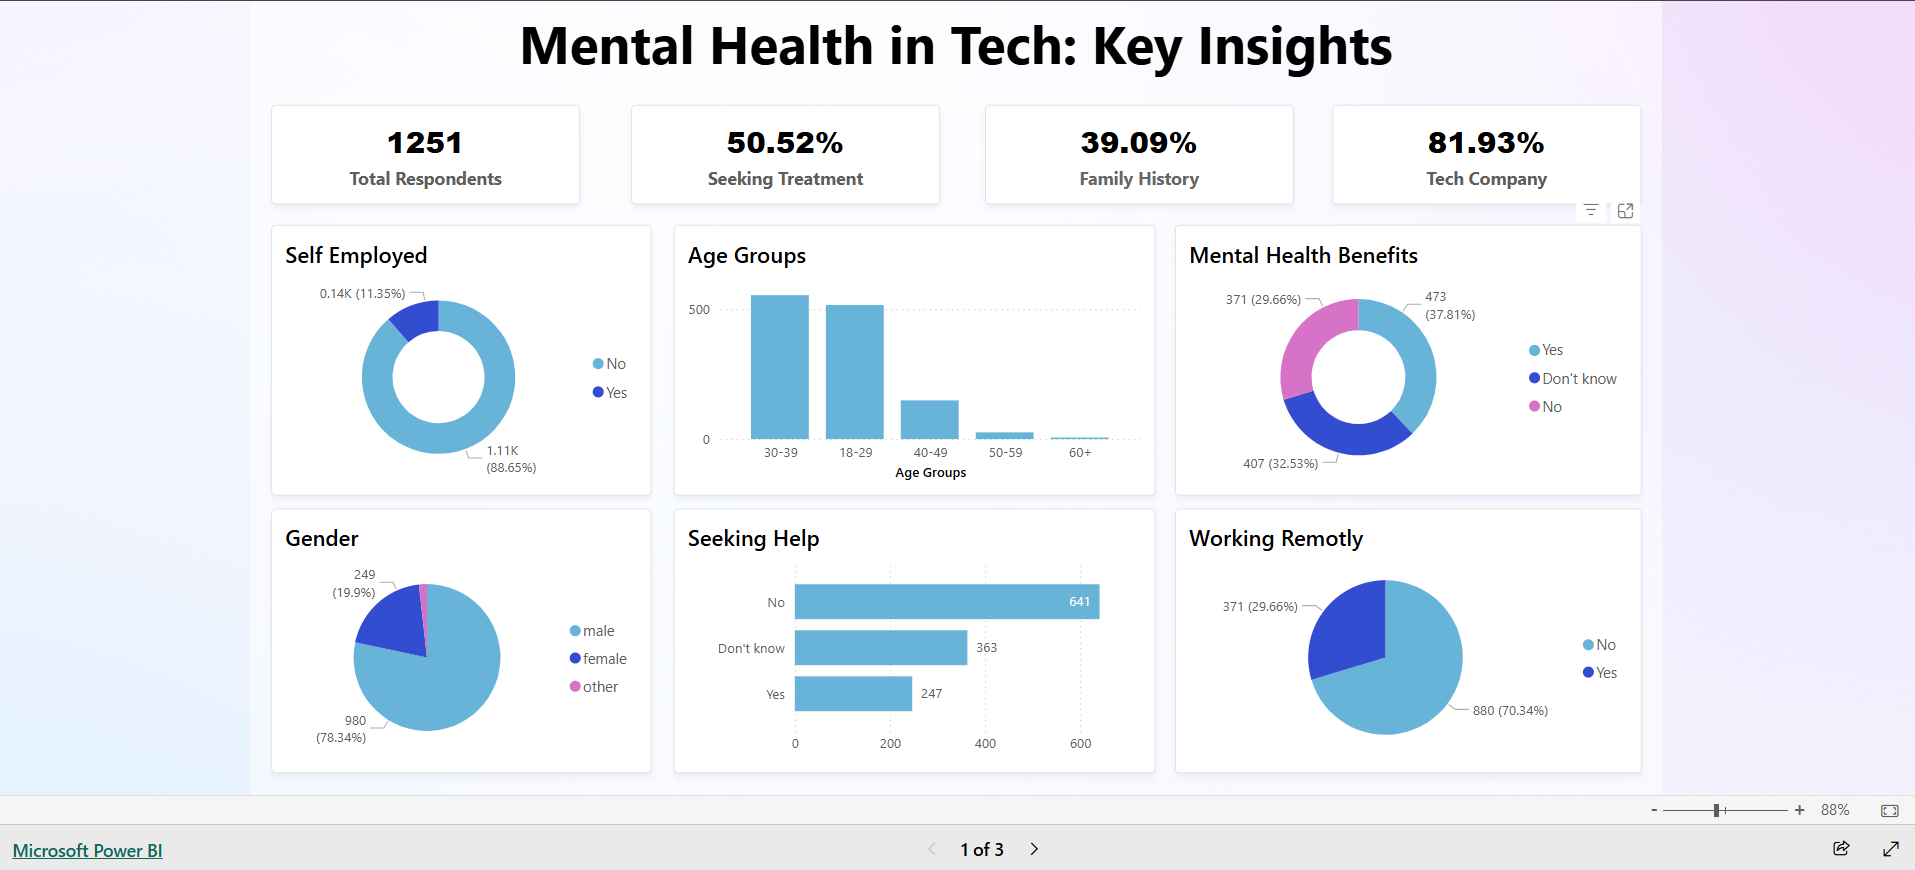

What the dashboard file says about the page in this screenshot:
{"tool":"powerbi","page":{"name":"Overview","canvas":[1280,720],"ordinal":0},"visuals":[{"type":"card","fields":{"Values":["survey.Measure: Total Respondents"]},"box":[19.6,94.2,280,90.5],"z":0},{"type":"card","fields":{"Values":["survey.Measure: % Seeking Treatment"]},"box":[346.1,94.2,280,90.5],"z":1000},{"type":"card","fields":{"Values":["survey.Measure: % Family History"]},"box":[666.4,94.2,280,90.5],"z":2000},{"type":"card","fields":{"Values":["survey.Measure: % Tech Company"]},"box":[981.9,94.2,280,90.5],"z":3000},{"type":"clusteredColumnChart","title":"Age Groups","fields":{"Category":["survey.Age Group"],"Y":["survey.Measure: Total Respondents"]},"box":[384,203,436.6,245.8],"z":4000},{"type":"pieChart","title":"Gender","fields":{"Y":["survey.Measure: Total Respondents"],"Category":["survey.Gender"]},"box":[19.6,459.8,344.8,239.7],"z":5000},{"type":"donutChart","title":"Mental Health Benefits ","fields":{"Y":["survey.Measure: Total Respondents"],"Category":["survey.Mental Health Benefits"]},"box":[838.9,203,423.1,245.8],"z":6000},{"type":"barChart","title":"Seeking Help","fields":{"Category":["survey.Seek Help"],"Y":["survey.Measure: Total Respondents"]},"box":[384,459.8,436.6,239.7],"z":7000},{"type":"textbox","box":[0,0,1280.3,94.2],"z":8000},{"type":"donutChart","title":"Self Employed","fields":{"Y":["CountNonNull(survey.Self Employed)"],"Category":["survey.Self Employed"]},"box":[19.6,203,344.8,245.8],"z":9000},{"type":"pieChart","title":"Working Remotly","fields":{"Category":["survey.Remote Work"],"Y":["CountNonNull(survey.Remote Work)"]},"box":[838.9,459.8,423.1,239.7],"z":10000}]}

Visuals, with their boxes on the page's 1280x720 design canvas (x1, y1, x2, y2). These are canvas units, not pixel positions in the 1915x870 screenshot, which may show the page scaled, cropped or inside an application window:
card - survey.Measure: Total Respondents: {"left": 20, "top": 94, "right": 300, "bottom": 185}
card - survey.Measure: % Seeking Treatment: {"left": 346, "top": 94, "right": 626, "bottom": 185}
card - survey.Measure: % Family History: {"left": 666, "top": 94, "right": 946, "bottom": 185}
card - survey.Measure: % Tech Company: {"left": 982, "top": 94, "right": 1262, "bottom": 185}
"Age Groups" clusteredColumnChart: {"left": 384, "top": 203, "right": 821, "bottom": 449}
"Gender" pieChart: {"left": 20, "top": 460, "right": 364, "bottom": 700}
"Mental Health Benefits " donutChart: {"left": 839, "top": 203, "right": 1262, "bottom": 449}
"Seeking Help" barChart: {"left": 384, "top": 460, "right": 821, "bottom": 700}
textbox: {"left": 0, "top": 0, "right": 1280, "bottom": 94}
"Self Employed" donutChart: {"left": 20, "top": 203, "right": 364, "bottom": 449}
"Working Remotly" pieChart: {"left": 839, "top": 460, "right": 1262, "bottom": 700}
